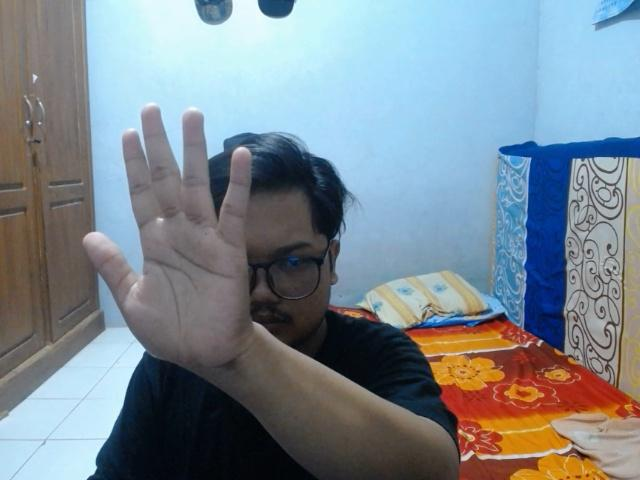Release: (79, 98, 260, 381)
